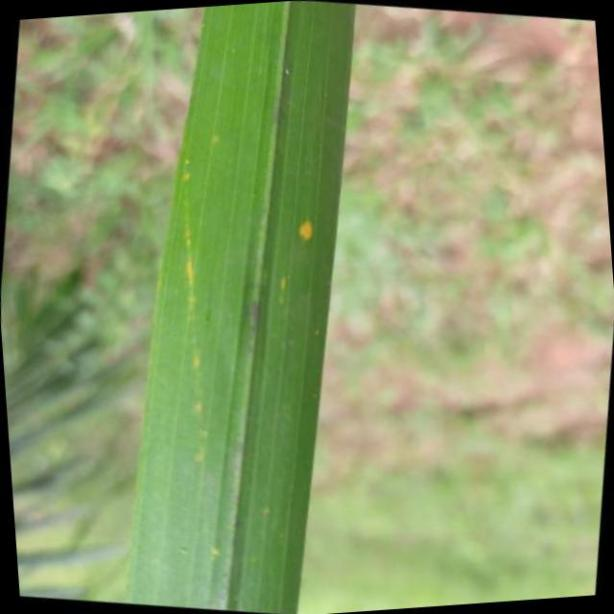Kalium: (123, 0, 357, 614)
